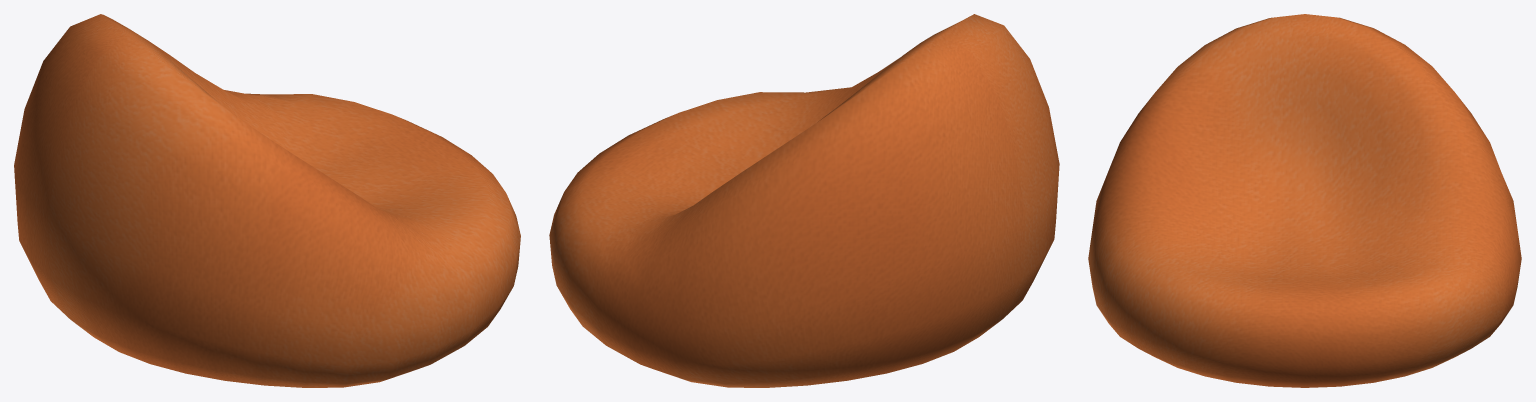
Rendered from BeanBagChair.glb.
3 renders of one model, left to right at view 1: azimuth 30°, elevation 25°; view 2: azimuth 150°, elevation 25°; view 3: azimuth 270°, elevation 25°, orthographic. The views are drawn at different scales.
Visible parts, largest first — view 1: BeanBagChair; view 2: BeanBagChair; view 3: BeanBagChair.
Boxes of the visible parts, bbox=[...] form: BeanBagChair: bbox=[14, 14, 520, 387]; BeanBagChair: bbox=[549, 14, 1059, 387]; BeanBagChair: bbox=[1088, 14, 1521, 387].
Size of what is drawn, in the model's own units: 1.98 by 1.33 by 2.09.
Materials: 1 (1 with a texture image).
